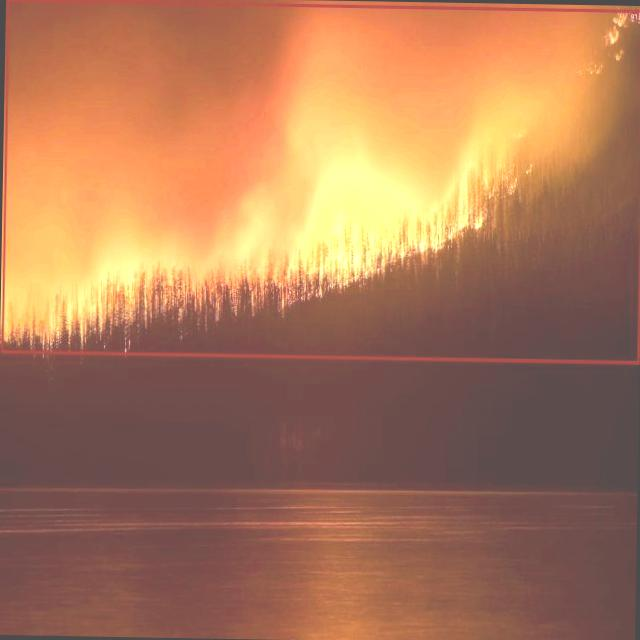fire: (1, 0, 640, 363)
